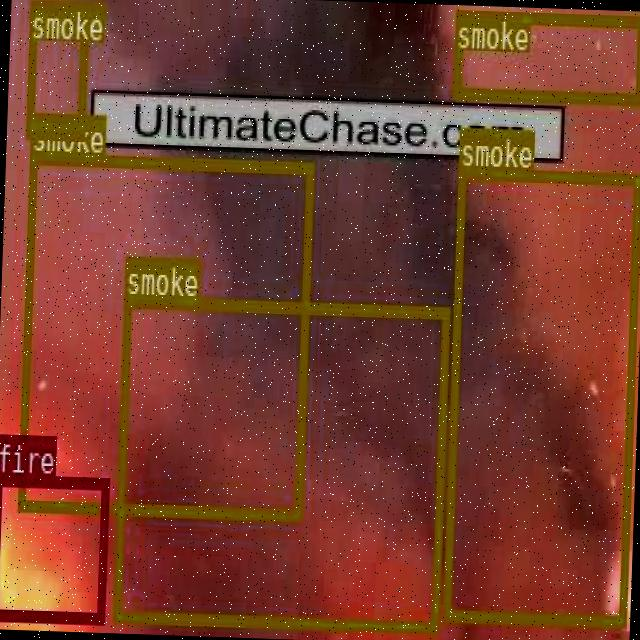fire: (0, 471, 108, 620)
smoke: (112, 295, 448, 631), (16, 150, 312, 518), (441, 165, 640, 625), (451, 8, 640, 104), (23, 0, 86, 137)
